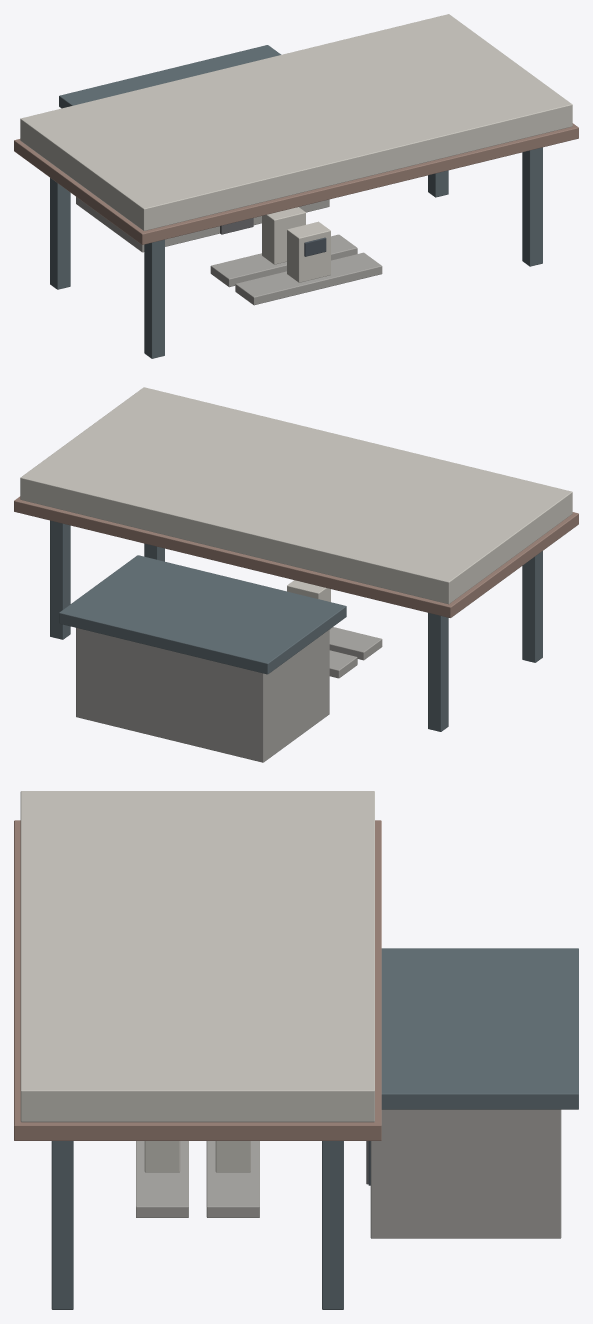
Rendered from kit_gasolinera_lod0.glb.
3 renders of one model, top to bottom at view 1: azimuth 30°, elevation 25°; view 2: azimuth 150°, elevation 25°; view 3: azimuth 270°, elevation 25°, orthographic. The views are drawn at different scales.
Visible parts, largest first — view 1: canopy_roof, canopy_fascia, shop_roof, island_1, column_2, column_3, column_0, pump_1, island_0, pump_0, shop_body, column_1; view 2: canopy_roof, shop_body, shop_roof, canopy_fascia, column_0, column_1, column_2, island_1, island_0, pump_1; view 3: canopy_roof, shop_roof, shop_body, canopy_fascia, column_3, column_1, island_0, island_1, pump_1, pump_0.
Boxes of the visible parts, bbox=[...] form: canopy_roof: bbox=[20, 14, 572, 230]; canopy_fascia: bbox=[14, 123, 578, 244]; shop_roof: bbox=[59, 45, 281, 108]; island_1: bbox=[235, 252, 382, 305]; column_2: bbox=[144, 239, 164, 358]; column_3: bbox=[522, 147, 542, 266]; column_0: bbox=[50, 178, 70, 289]; pump_1: bbox=[287, 221, 330, 282]; island_0: bbox=[210, 234, 357, 287]; pump_0: bbox=[262, 207, 305, 264]; shop_body: bbox=[76, 197, 329, 252]; column_1: bbox=[428, 170, 448, 197]; canopy_roof: bbox=[20, 387, 572, 604]; shop_body: bbox=[76, 628, 329, 762]; shop_roof: bbox=[59, 555, 346, 674]; canopy_fascia: bbox=[14, 496, 578, 617]; column_0: bbox=[428, 613, 448, 731]; column_1: bbox=[50, 520, 70, 639]; column_2: bbox=[522, 551, 542, 662]; island_1: bbox=[329, 627, 382, 660]; island_0: bbox=[329, 650, 357, 678]; pump_1: bbox=[287, 580, 330, 629]; canopy_roof: bbox=[20, 791, 374, 1122]; shop_roof: bbox=[381, 948, 578, 1109]; shop_body: bbox=[370, 1109, 561, 1238]; canopy_fascia: bbox=[14, 820, 381, 1140]; column_3: bbox=[51, 1141, 73, 1309]; column_1: bbox=[322, 1141, 343, 1309]; island_0: bbox=[206, 1141, 259, 1217]; island_1: bbox=[136, 1141, 188, 1217]; pump_1: bbox=[144, 1141, 180, 1172]; pump_0: bbox=[215, 1141, 250, 1172].
Size of the model in its own units: 16.3 by 5.8 by 12.75.
